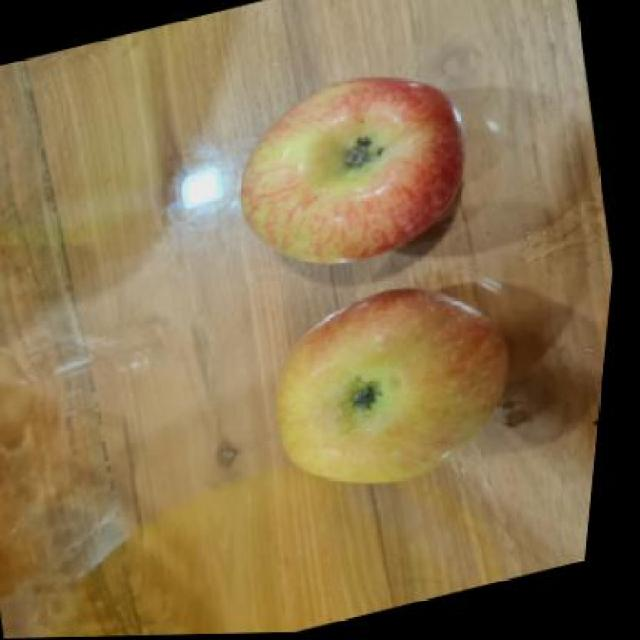Fresh Apple: (265, 284, 523, 496), (239, 79, 467, 268)
